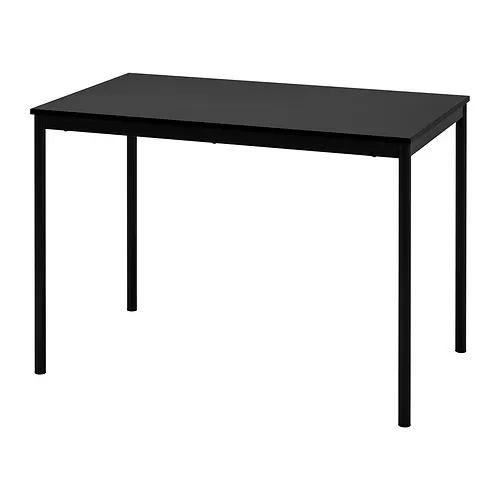Table: (30, 71, 470, 429)
